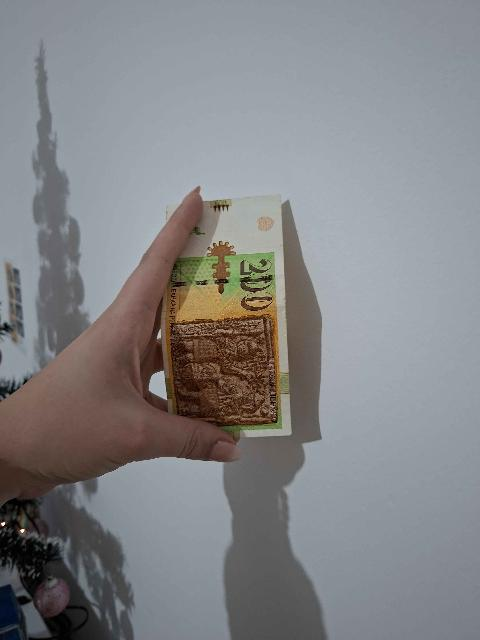200_note: (162, 196, 290, 436)
